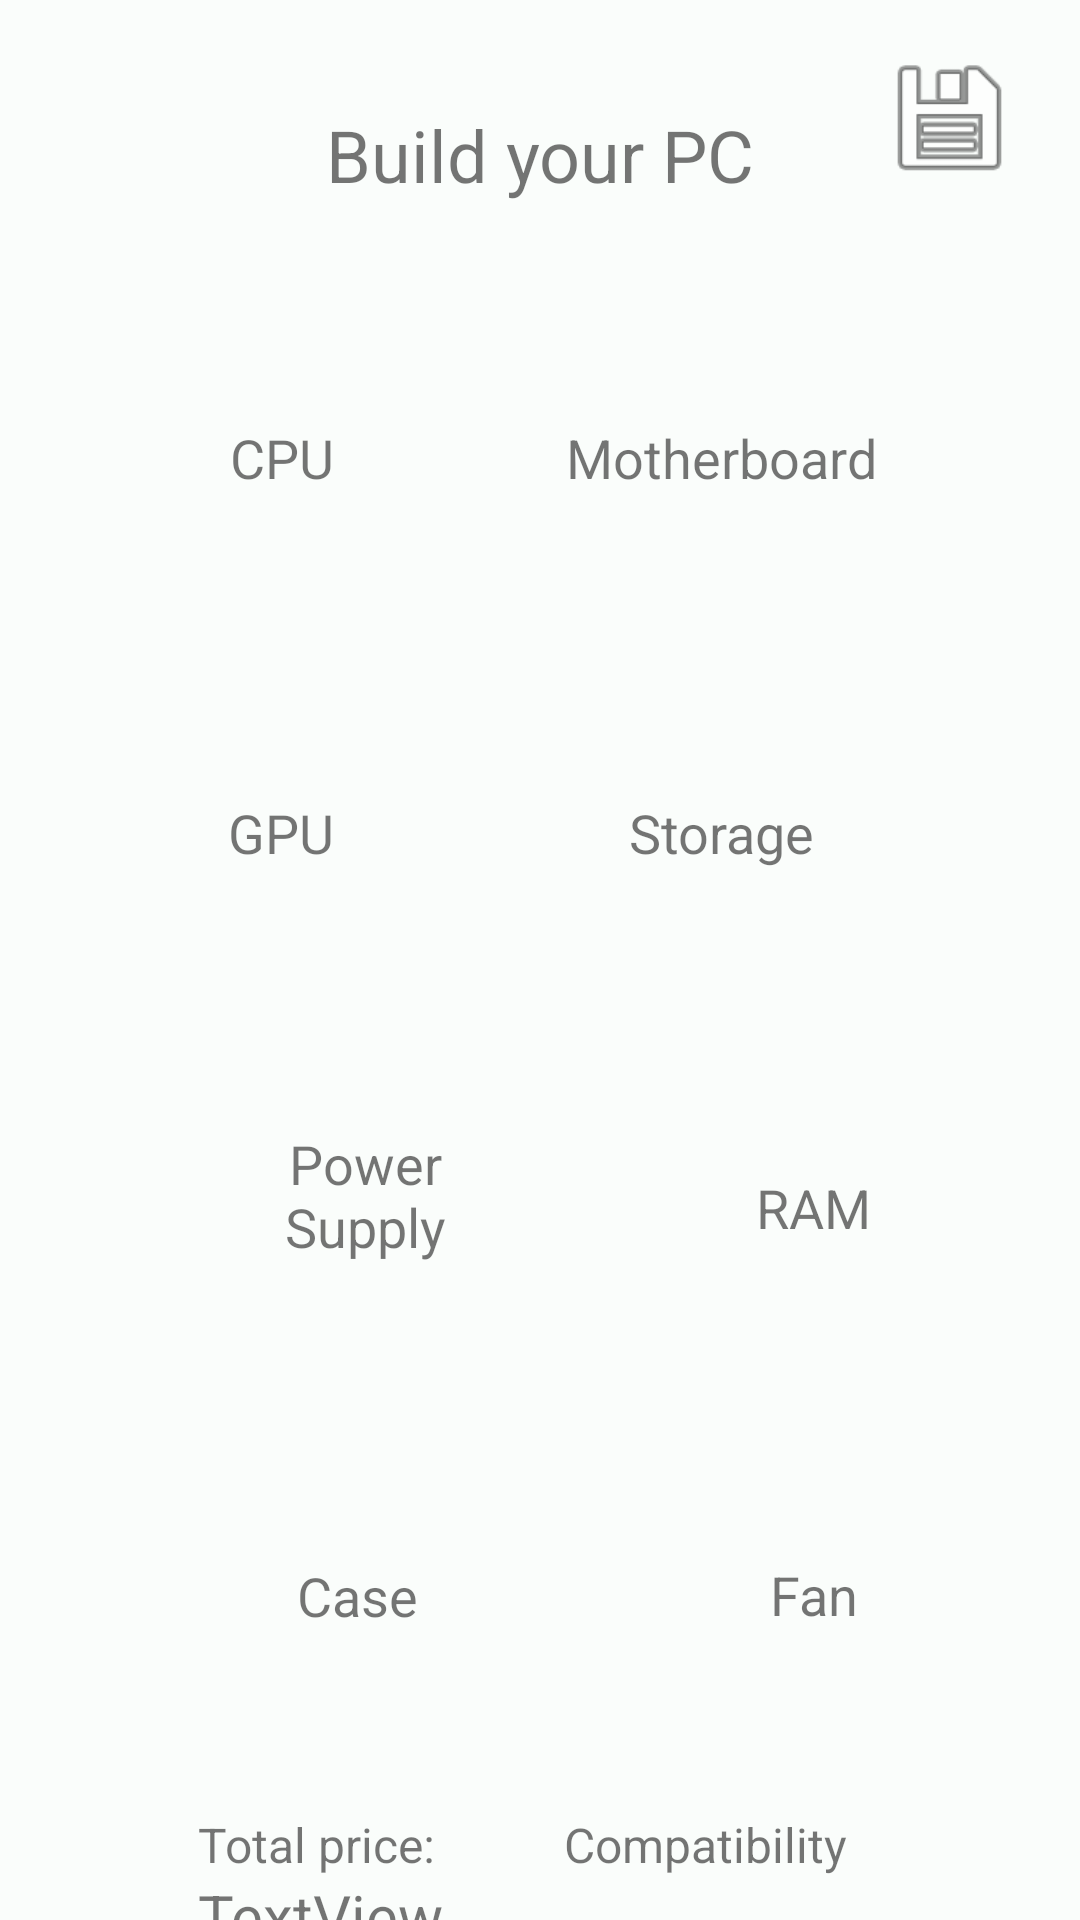

Named icons in this screenshot (1080px×1920px) and their centers, (x=x, y=y):
save: (x=949, y=118)
